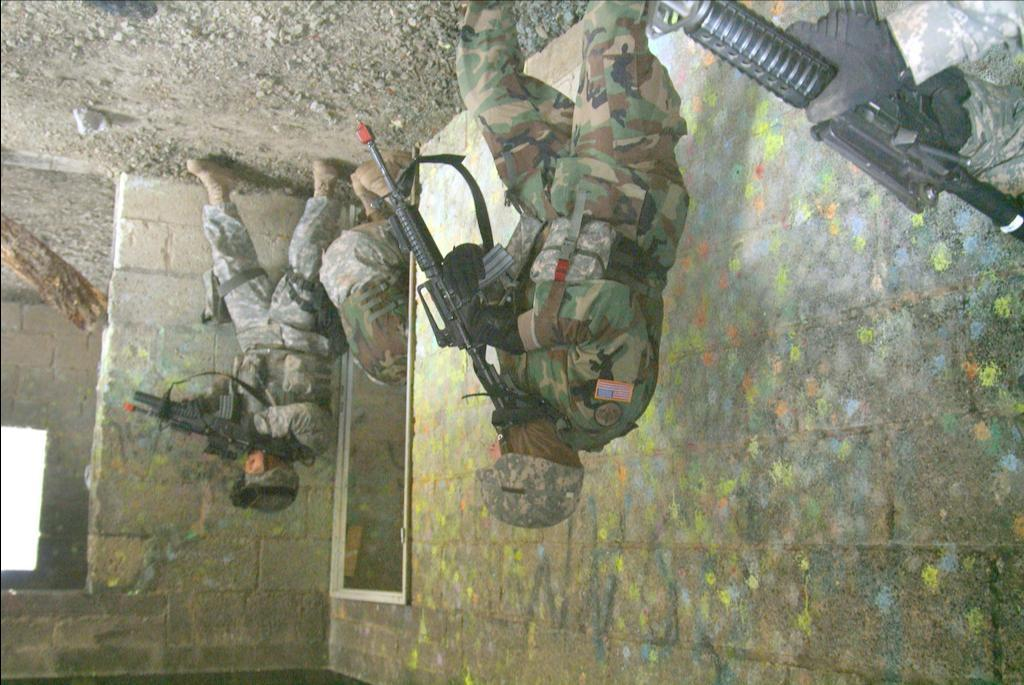gun: (350, 116, 516, 433), (124, 381, 259, 460)
